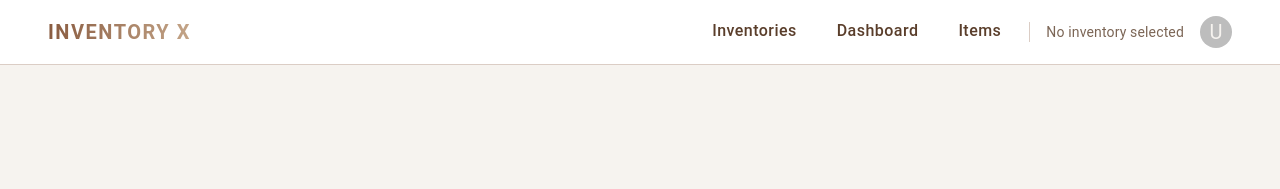
it: Navbar Component › opens user menu when avatar is clicked
The image size is (1280, 189).
Click the button named "open user menu".
click(1216, 32)  # box [1200, 16, 1232, 48]
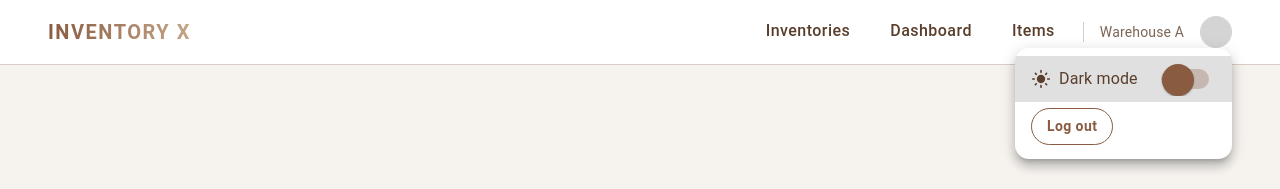
Now the button "Log out" is shown, box [1031, 108, 1113, 144]
